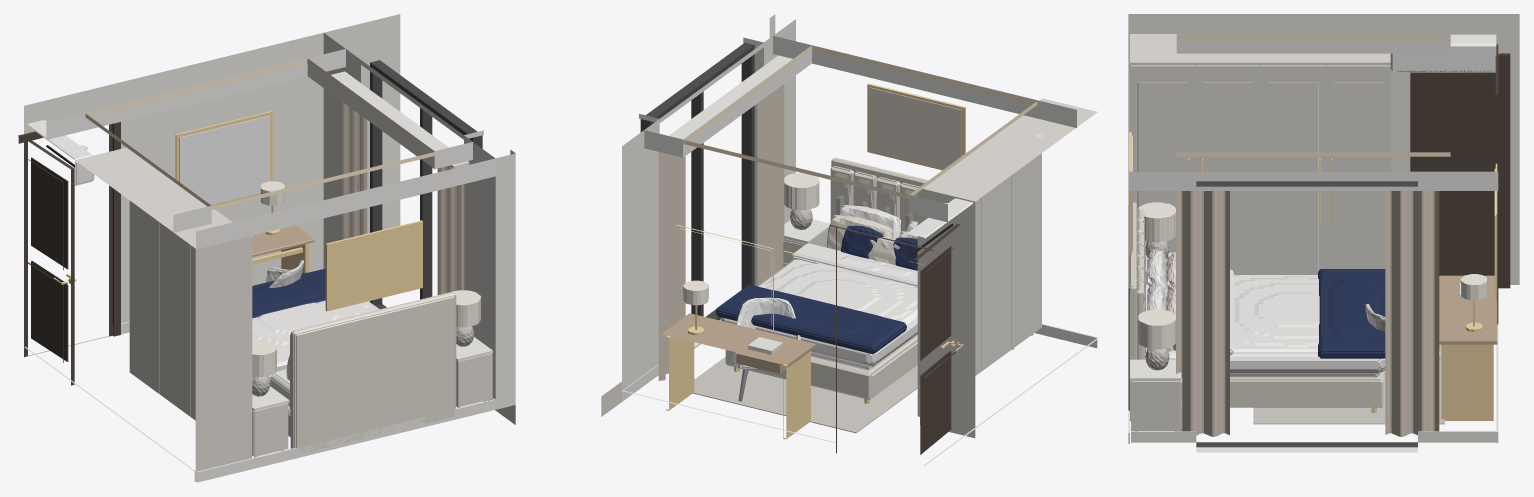
Rendered from ROOM2.glb.
3 views of the same model, side by side, from view 1: azimuth 30°, elevation 25°; view 2: azimuth 150°, elevation 25°; view 3: azimuth 270°, elevation 25° (orthographic). The views are drawn at different scales.
Parts seen in each view (by area): view 1: WEB_ROOM2; view 2: WEB_ROOM2; view 3: WEB_ROOM2.
Boxes of the visible parts, x1,y1,x2,y2 form: WEB_ROOM2: (18,14,515,482); WEB_ROOM2: (601,14,1097,465); WEB_ROOM2: (1128,14,1519,452).
Size of the model in its own units: 3.98 by 2.7 by 3.27.
